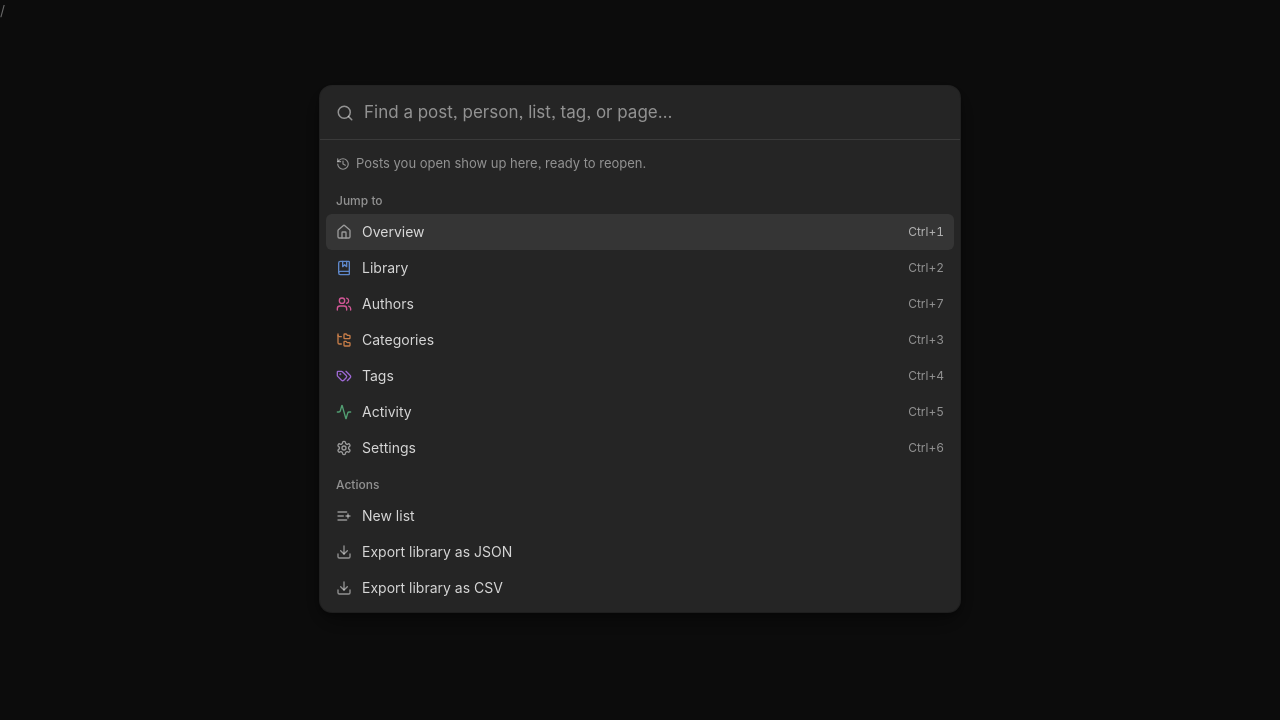
Test: finder › opens a post as a full page with Ctrl+Enter, and a person's page from their row
Type "engine" into the dropdown at [656, 113], box x1=364 y1=100 x2=948 y2=126
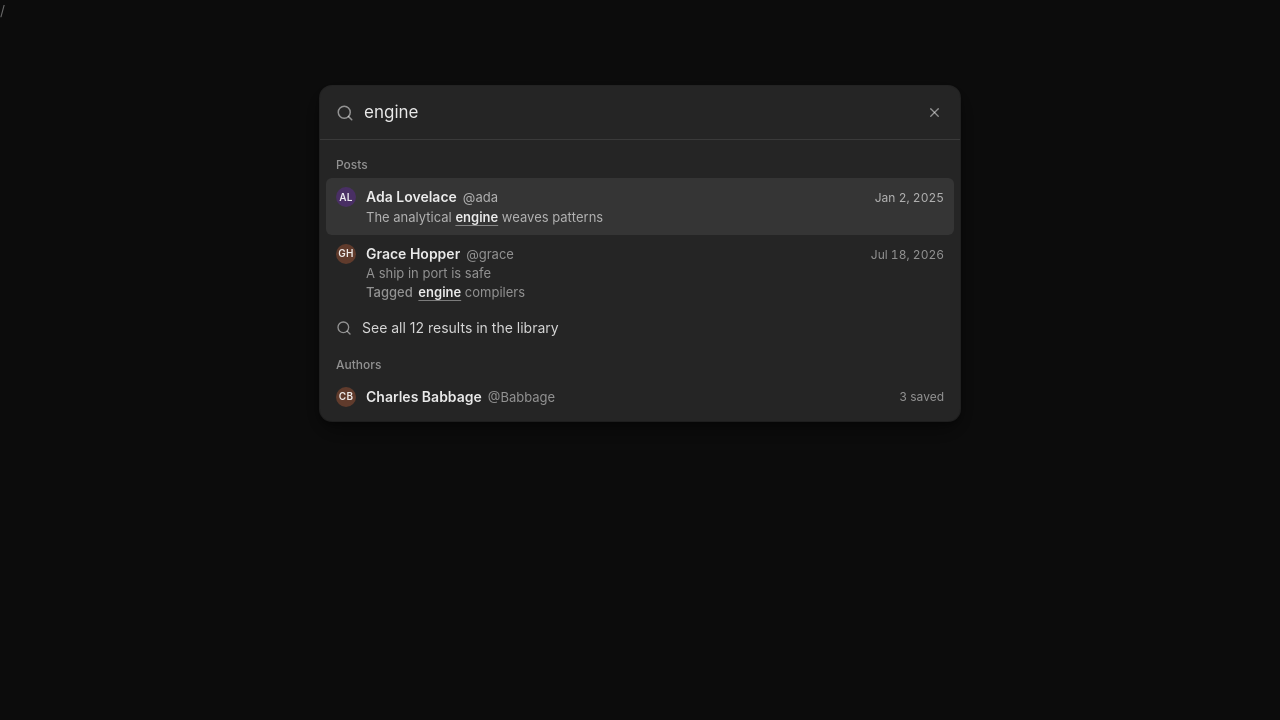
Check: the option "Ada Lovelace" is shown, box x1=326 y1=178 x2=954 y2=235
Press Enter in the dropdown, box x1=364 y1=100 x2=910 y2=126
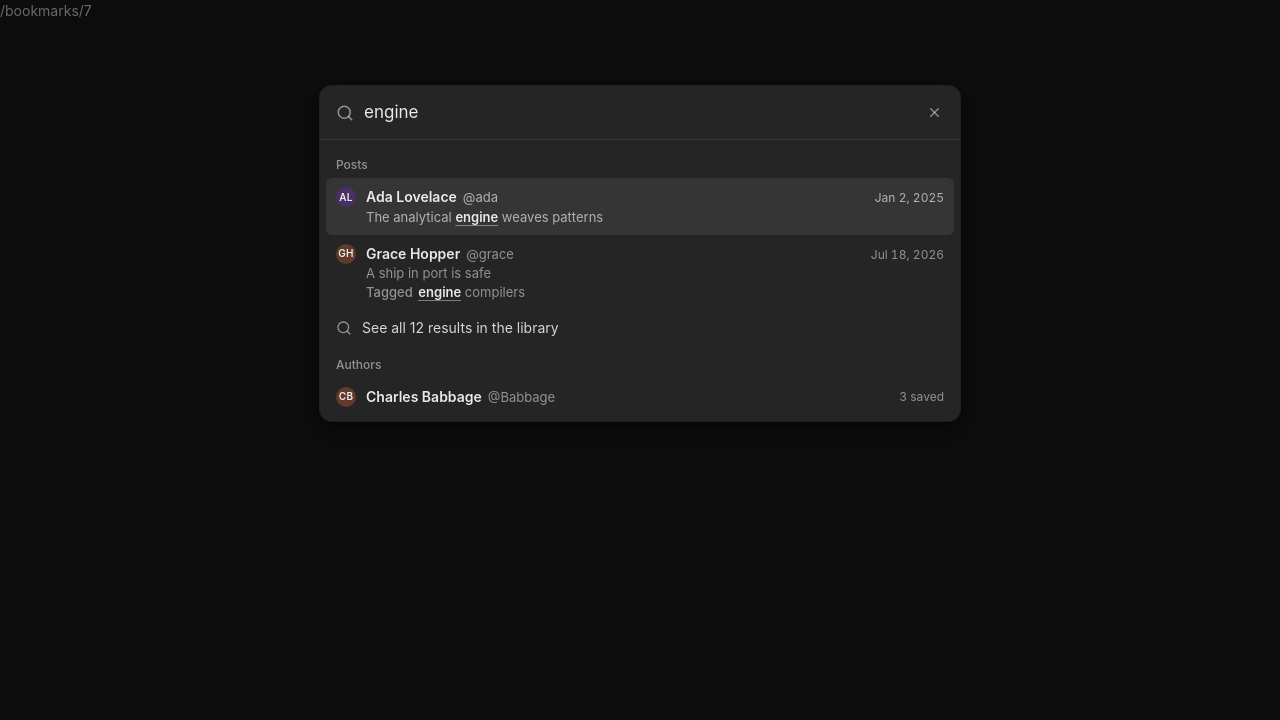
Check: the text with test id "where" reads "/bookmarks/7", box x1=0 y1=2 x2=92 y2=19
Click the option "CB Charles Babbage @Babbage 3 saved" at [424, 396], box x1=326 y1=378 x2=954 y2=415
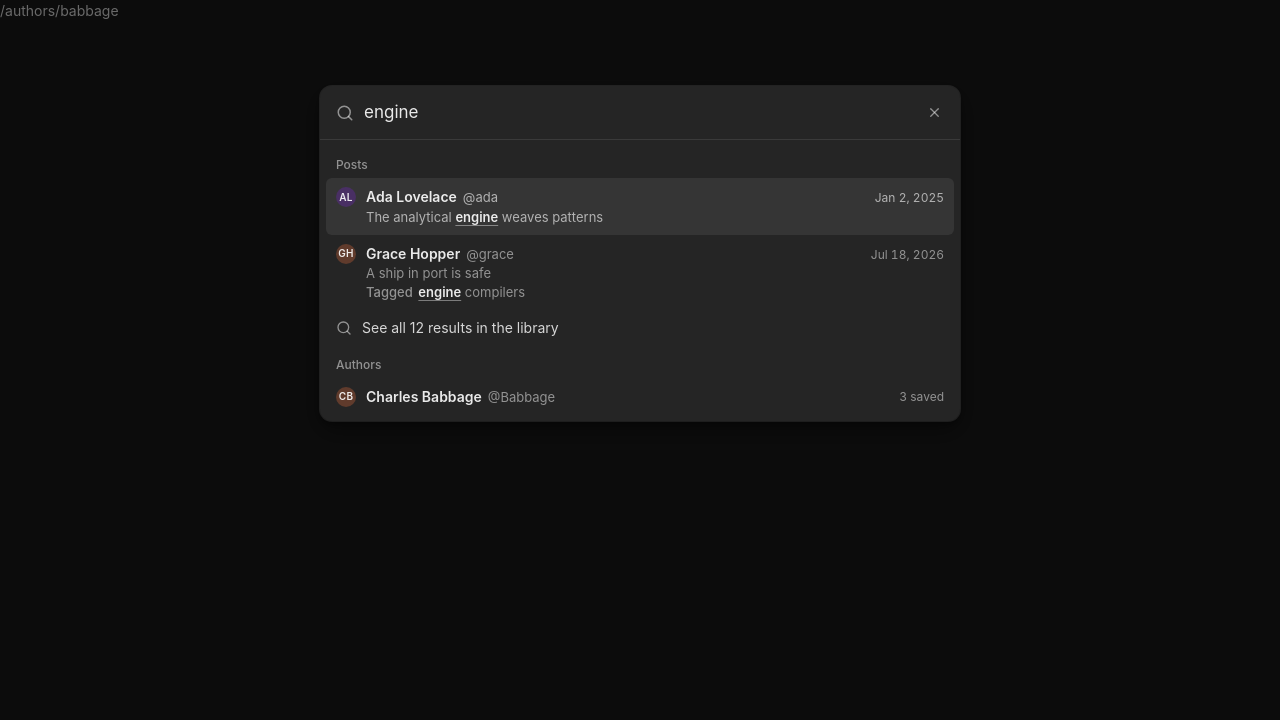
Check: the text with test id "where" reads "/authors/babbage", box x1=0 y1=2 x2=119 y2=19
